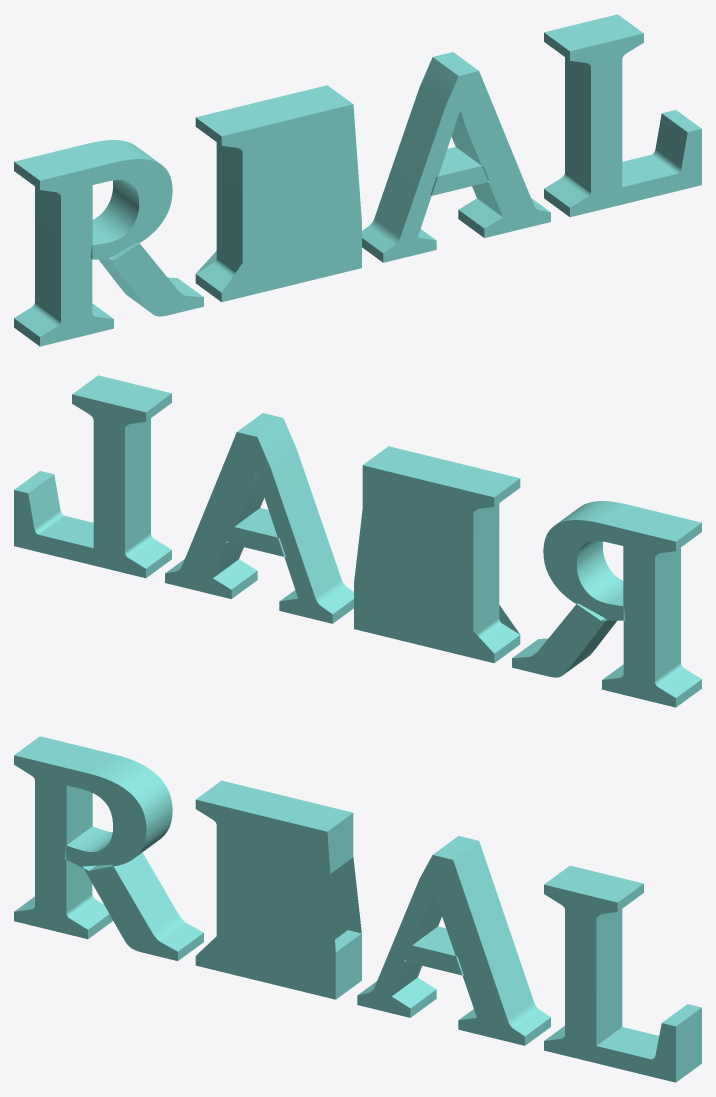
The model's file is real.fbx.
3 views of the same model, one above another, from view 1: azimuth 30°, elevation 25°; view 2: azimuth 150°, elevation 25°; view 3: azimuth 330°, elevation 25° (orthographic).
Visible parts, largest first — view 1: typeMesh1; view 2: typeMesh1; view 3: typeMesh1.
Part boxes in pixels (x1,y1,x2,y2): typeMesh1: (14, 14, 701, 346); typeMesh1: (14, 375, 701, 707); typeMesh1: (14, 736, 701, 1082).
Size of the model in its own units: 2.79 by 0.6786 by 0.1901.
